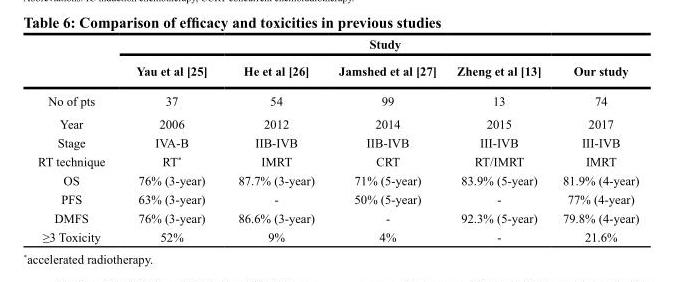table: (36, 36, 638, 243)
table column: (325, 36, 446, 243), (446, 36, 551, 243), (119, 36, 222, 243), (222, 36, 325, 243), (551, 36, 638, 243), (36, 36, 119, 243)
table column header: (36, 36, 638, 85)
table row: (36, 56, 638, 85), (36, 85, 638, 111), (36, 111, 638, 132), (36, 36, 638, 56), (36, 132, 638, 151), (36, 151, 638, 170), (36, 170, 638, 189), (36, 189, 638, 208), (36, 208, 638, 227), (36, 227, 638, 243)
table spanning cell: (119, 36, 638, 56)
